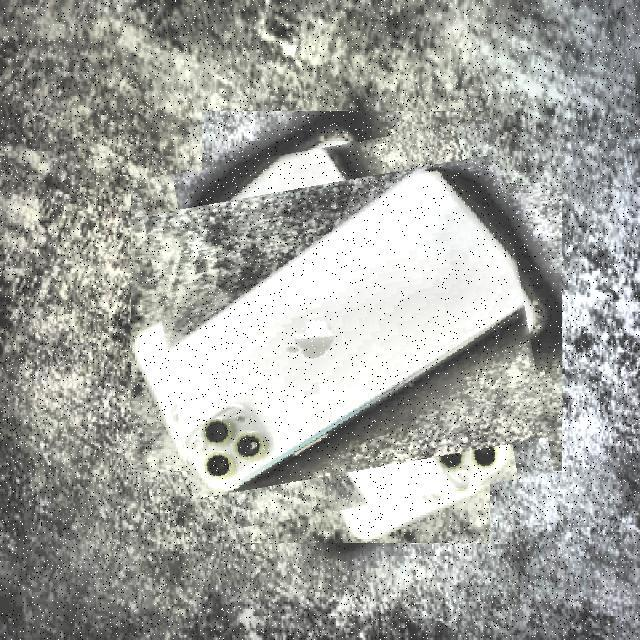Phone: (152, 133, 540, 522)
